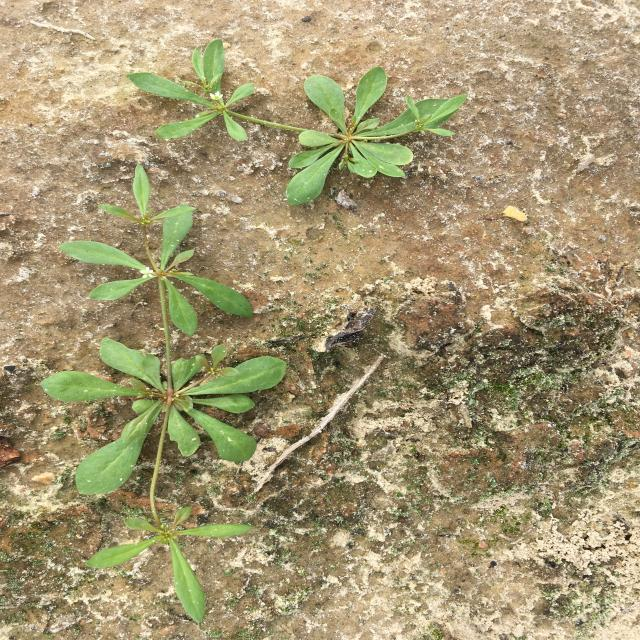Carpetweed: (41, 163, 287, 622), (126, 38, 468, 206)
